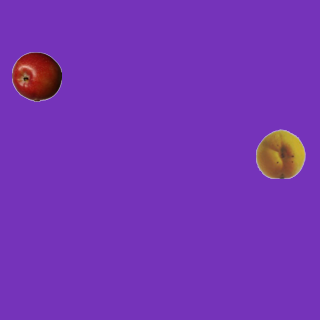Apple Braeburn: (11, 51, 61, 101)
Peach 2: (255, 128, 305, 178)
